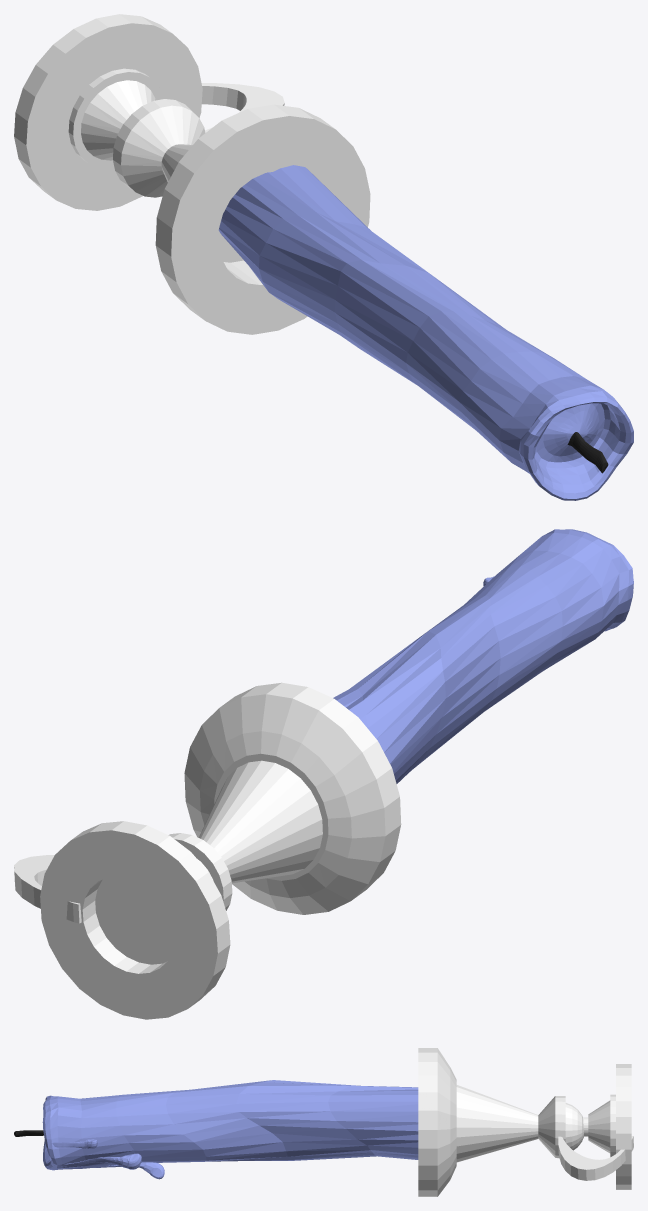
The picture shows the model from 3 angles, top to bottom: view 1: azimuth 30°, elevation 25°; view 2: azimuth 150°, elevation 25°; view 3: azimuth 270°, elevation 25°; orthographic projection. The views are drawn at different scales.
Visible parts, largest first — view 1: candle; view 2: candle; view 3: candle.
Boxes of the visible parts, x1,y1,x2,y2 form: candle: (14, 14, 633, 500); candle: (14, 529, 633, 1019); candle: (14, 1048, 633, 1196).
Size of the model in its own units: 82.71 by 69.07 by 288.
